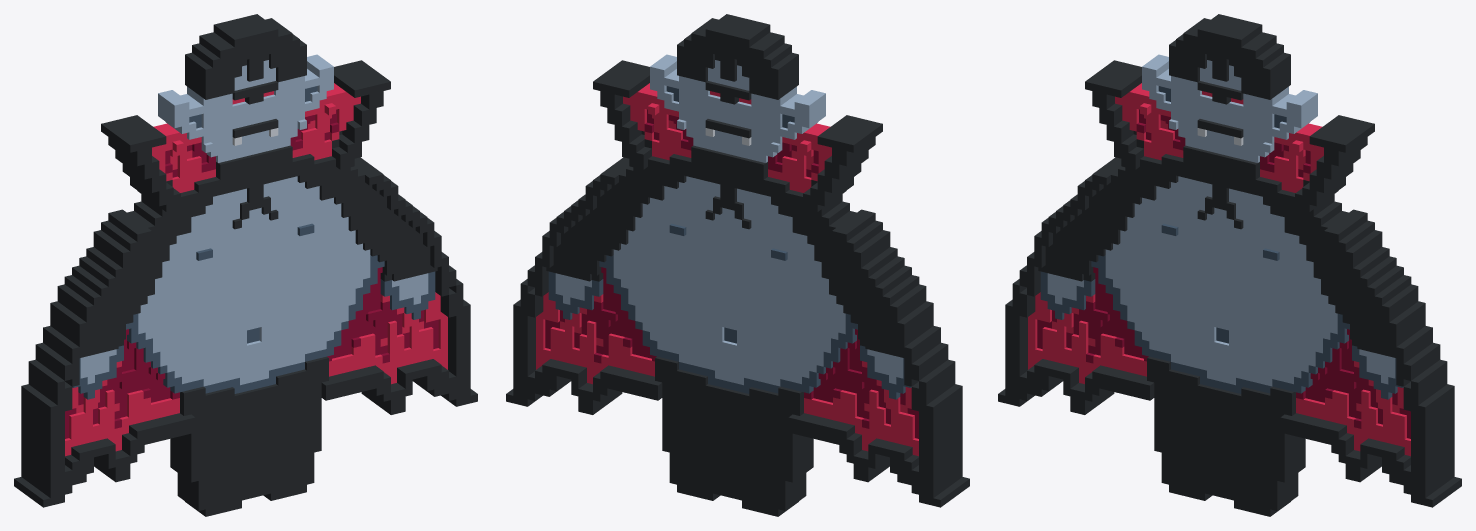
Rendered from bigVamp.glb.
3 renders of one model, left to right at view 1: azimuth 30°, elevation 25°; view 2: azimuth 150°, elevation 25°; view 3: azimuth 330°, elevation 25°, orthographic.
Parts seen in each view (by area): view 1: generated(Clone); view 2: generated(Clone); view 3: generated(Clone).
Boxes of the visible parts, x1,y1,x2,y2 form: generated(Clone): (14, 14, 477, 516); generated(Clone): (506, 14, 969, 516); generated(Clone): (998, 14, 1461, 516).
Bounding box in the file's own units: 60 × 62 × 7.
